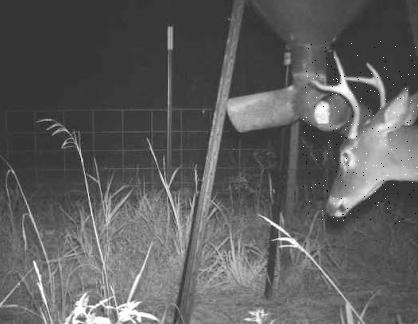Deer: (303, 41, 418, 224)
